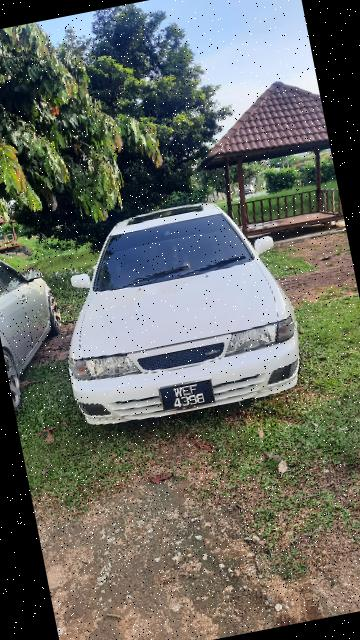License_Plate: (155, 376, 218, 418)
car: (33, 177, 314, 446)
